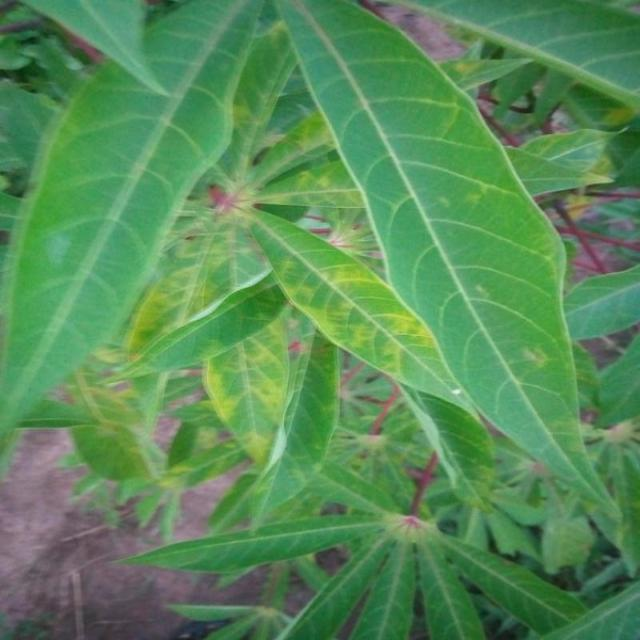cassava leaf: (2, 1, 635, 636), (272, 0, 619, 528)
